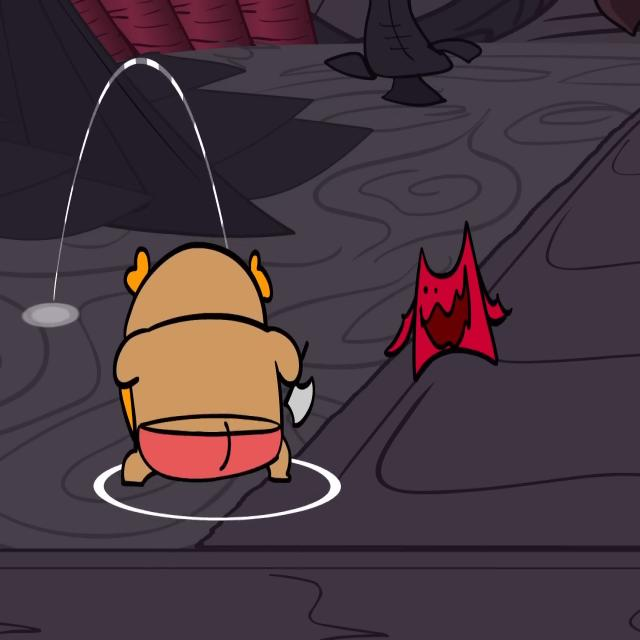Haagen-Daz: (113, 240, 304, 487)
